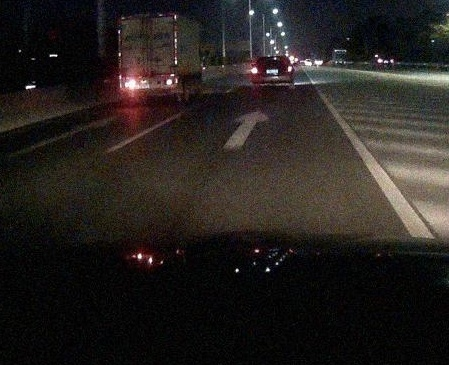L_light: (126, 80, 137, 87), (252, 68, 257, 73)
R_light: (163, 79, 175, 86), (287, 67, 292, 72)
T_light: (142, 17, 153, 21), (269, 57, 274, 60)
night-left: (118, 13, 177, 103), (251, 56, 293, 89)
